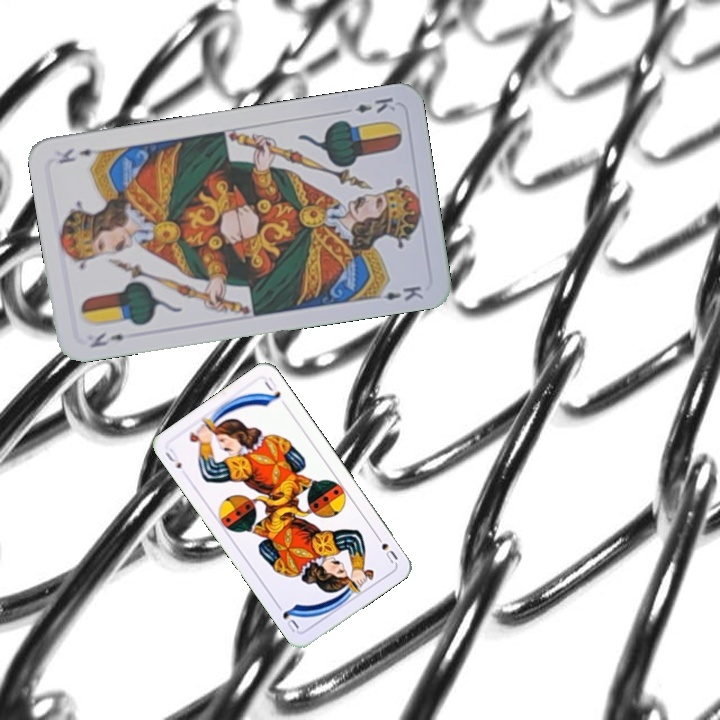EK: (351, 93, 398, 116), (86, 328, 127, 351)
SU: (371, 530, 400, 566), (161, 444, 184, 471)
